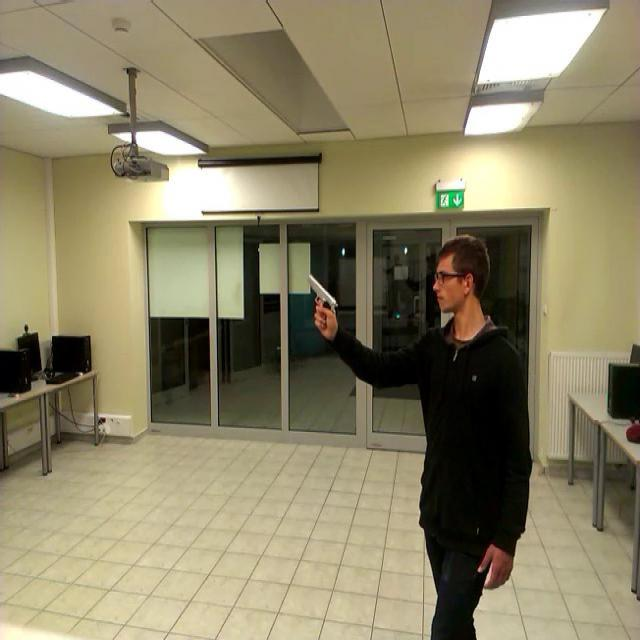weapon: (306, 274, 336, 326)
